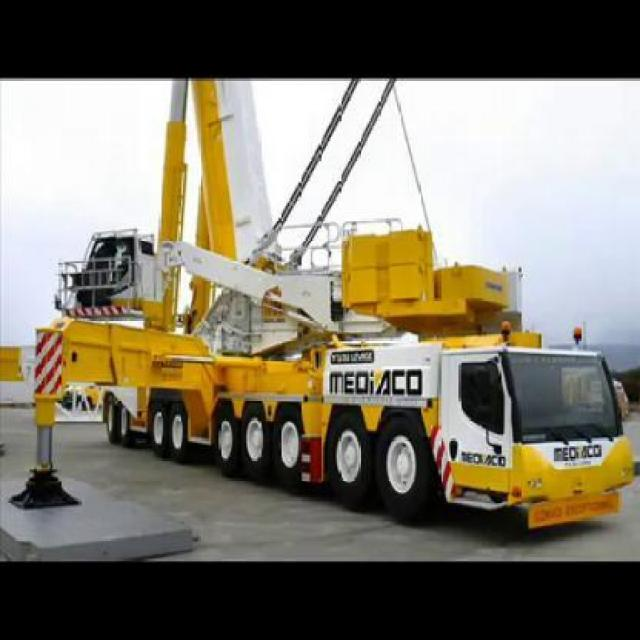Mobile Crane: (9, 78, 634, 550)
